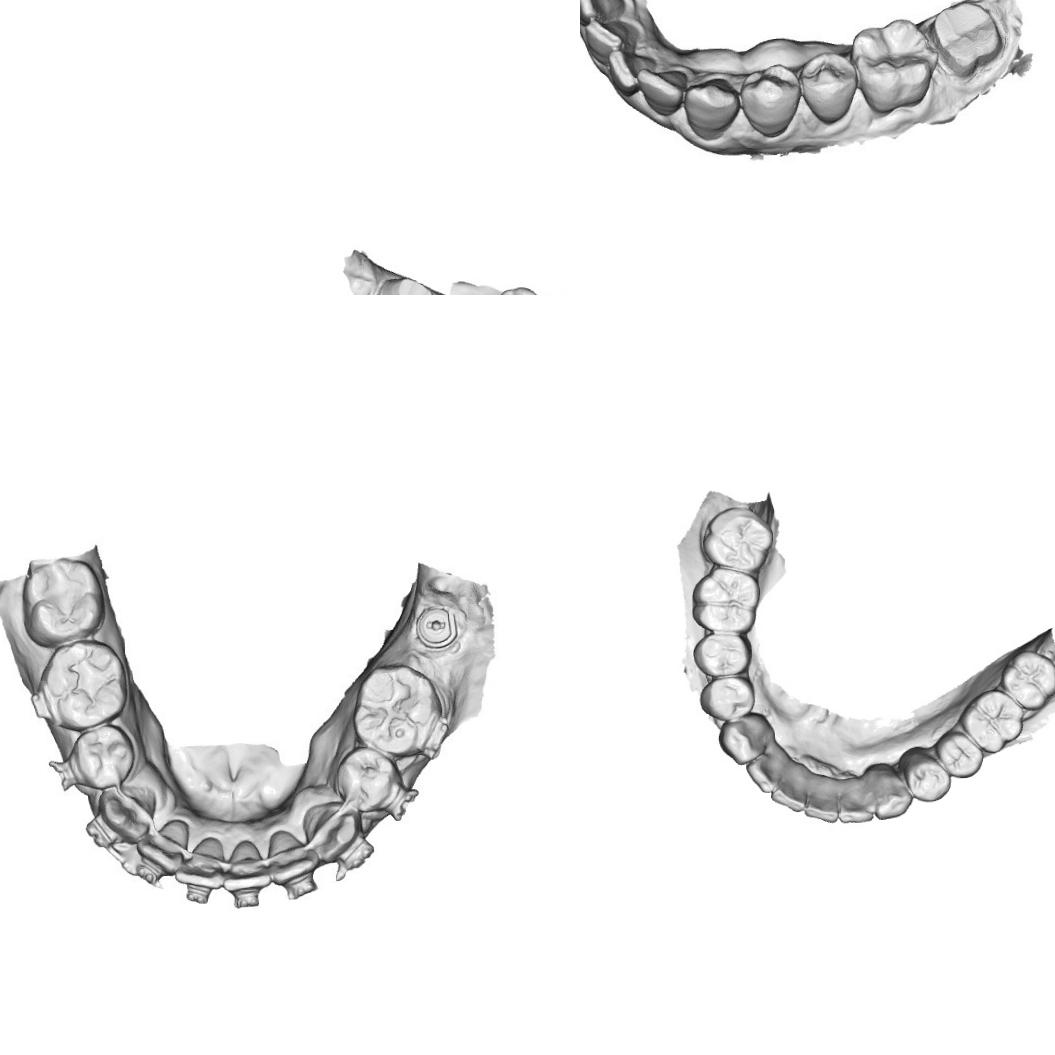canine: (679, 76, 741, 141), (95, 782, 158, 842), (300, 798, 361, 856), (715, 712, 774, 766), (869, 766, 914, 822)
crown: (927, 0, 1008, 81), (371, 274, 437, 295)
implant: (414, 593, 460, 650)
incisor: (134, 818, 193, 870), (267, 827, 320, 884), (221, 836, 273, 894), (173, 836, 225, 892), (638, 66, 689, 120), (608, 48, 654, 100), (744, 746, 790, 795), (580, 18, 633, 60), (834, 774, 875, 825), (769, 762, 809, 814), (802, 775, 839, 824), (580, 0, 628, 24)
molar: (352, 663, 440, 759), (851, 19, 937, 117), (18, 555, 105, 648), (41, 640, 127, 730), (700, 504, 776, 578), (689, 565, 762, 635), (956, 686, 1026, 756), (997, 647, 1055, 712)
premolar: (736, 60, 801, 138), (798, 47, 858, 128), (70, 720, 137, 792), (337, 746, 399, 810), (690, 631, 756, 679), (902, 746, 952, 804), (697, 674, 757, 722), (932, 729, 986, 780)
